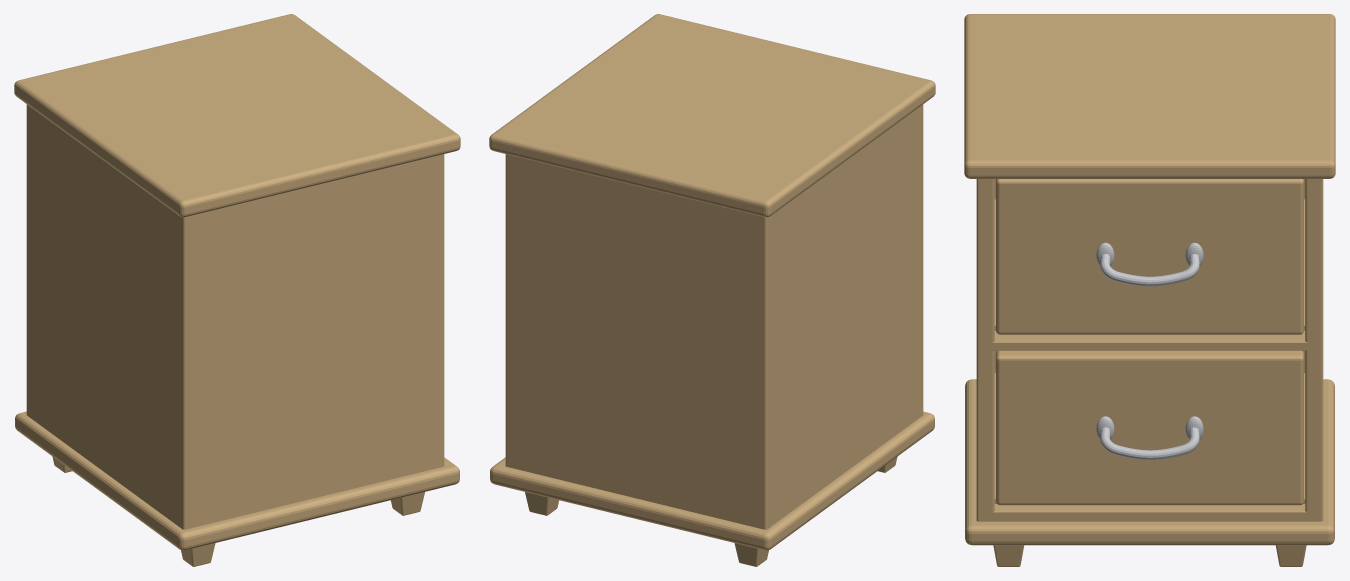
Rendered from appearance.glb.
The picture shows the model from 3 angles, left to right: view 1: azimuth 30°, elevation 25°; view 2: azimuth 150°, elevation 25°; view 3: azimuth 270°, elevation 25°; orthographic projection. The views are drawn at different scales.
Visible parts, largest first — view 1: visual_0_0; view 2: visual_0_0; view 3: visual_0_0, visual_1_1, visual_2_1, visual_1_0, visual_2_0.
Boxes of the visible parts, bbox=[...] form: visual_0_0: bbox=[14, 14, 460, 566]; visual_0_0: bbox=[489, 14, 935, 566]; visual_0_0: bbox=[964, 14, 1335, 566]; visual_1_1: bbox=[996, 179, 1303, 334]; visual_2_1: bbox=[996, 350, 1303, 505]; visual_1_0: bbox=[1096, 242, 1203, 286]; visual_2_0: bbox=[1096, 416, 1203, 459].
Bounding box in the file's own units: 0.4534 × 0.56 × 0.45.
